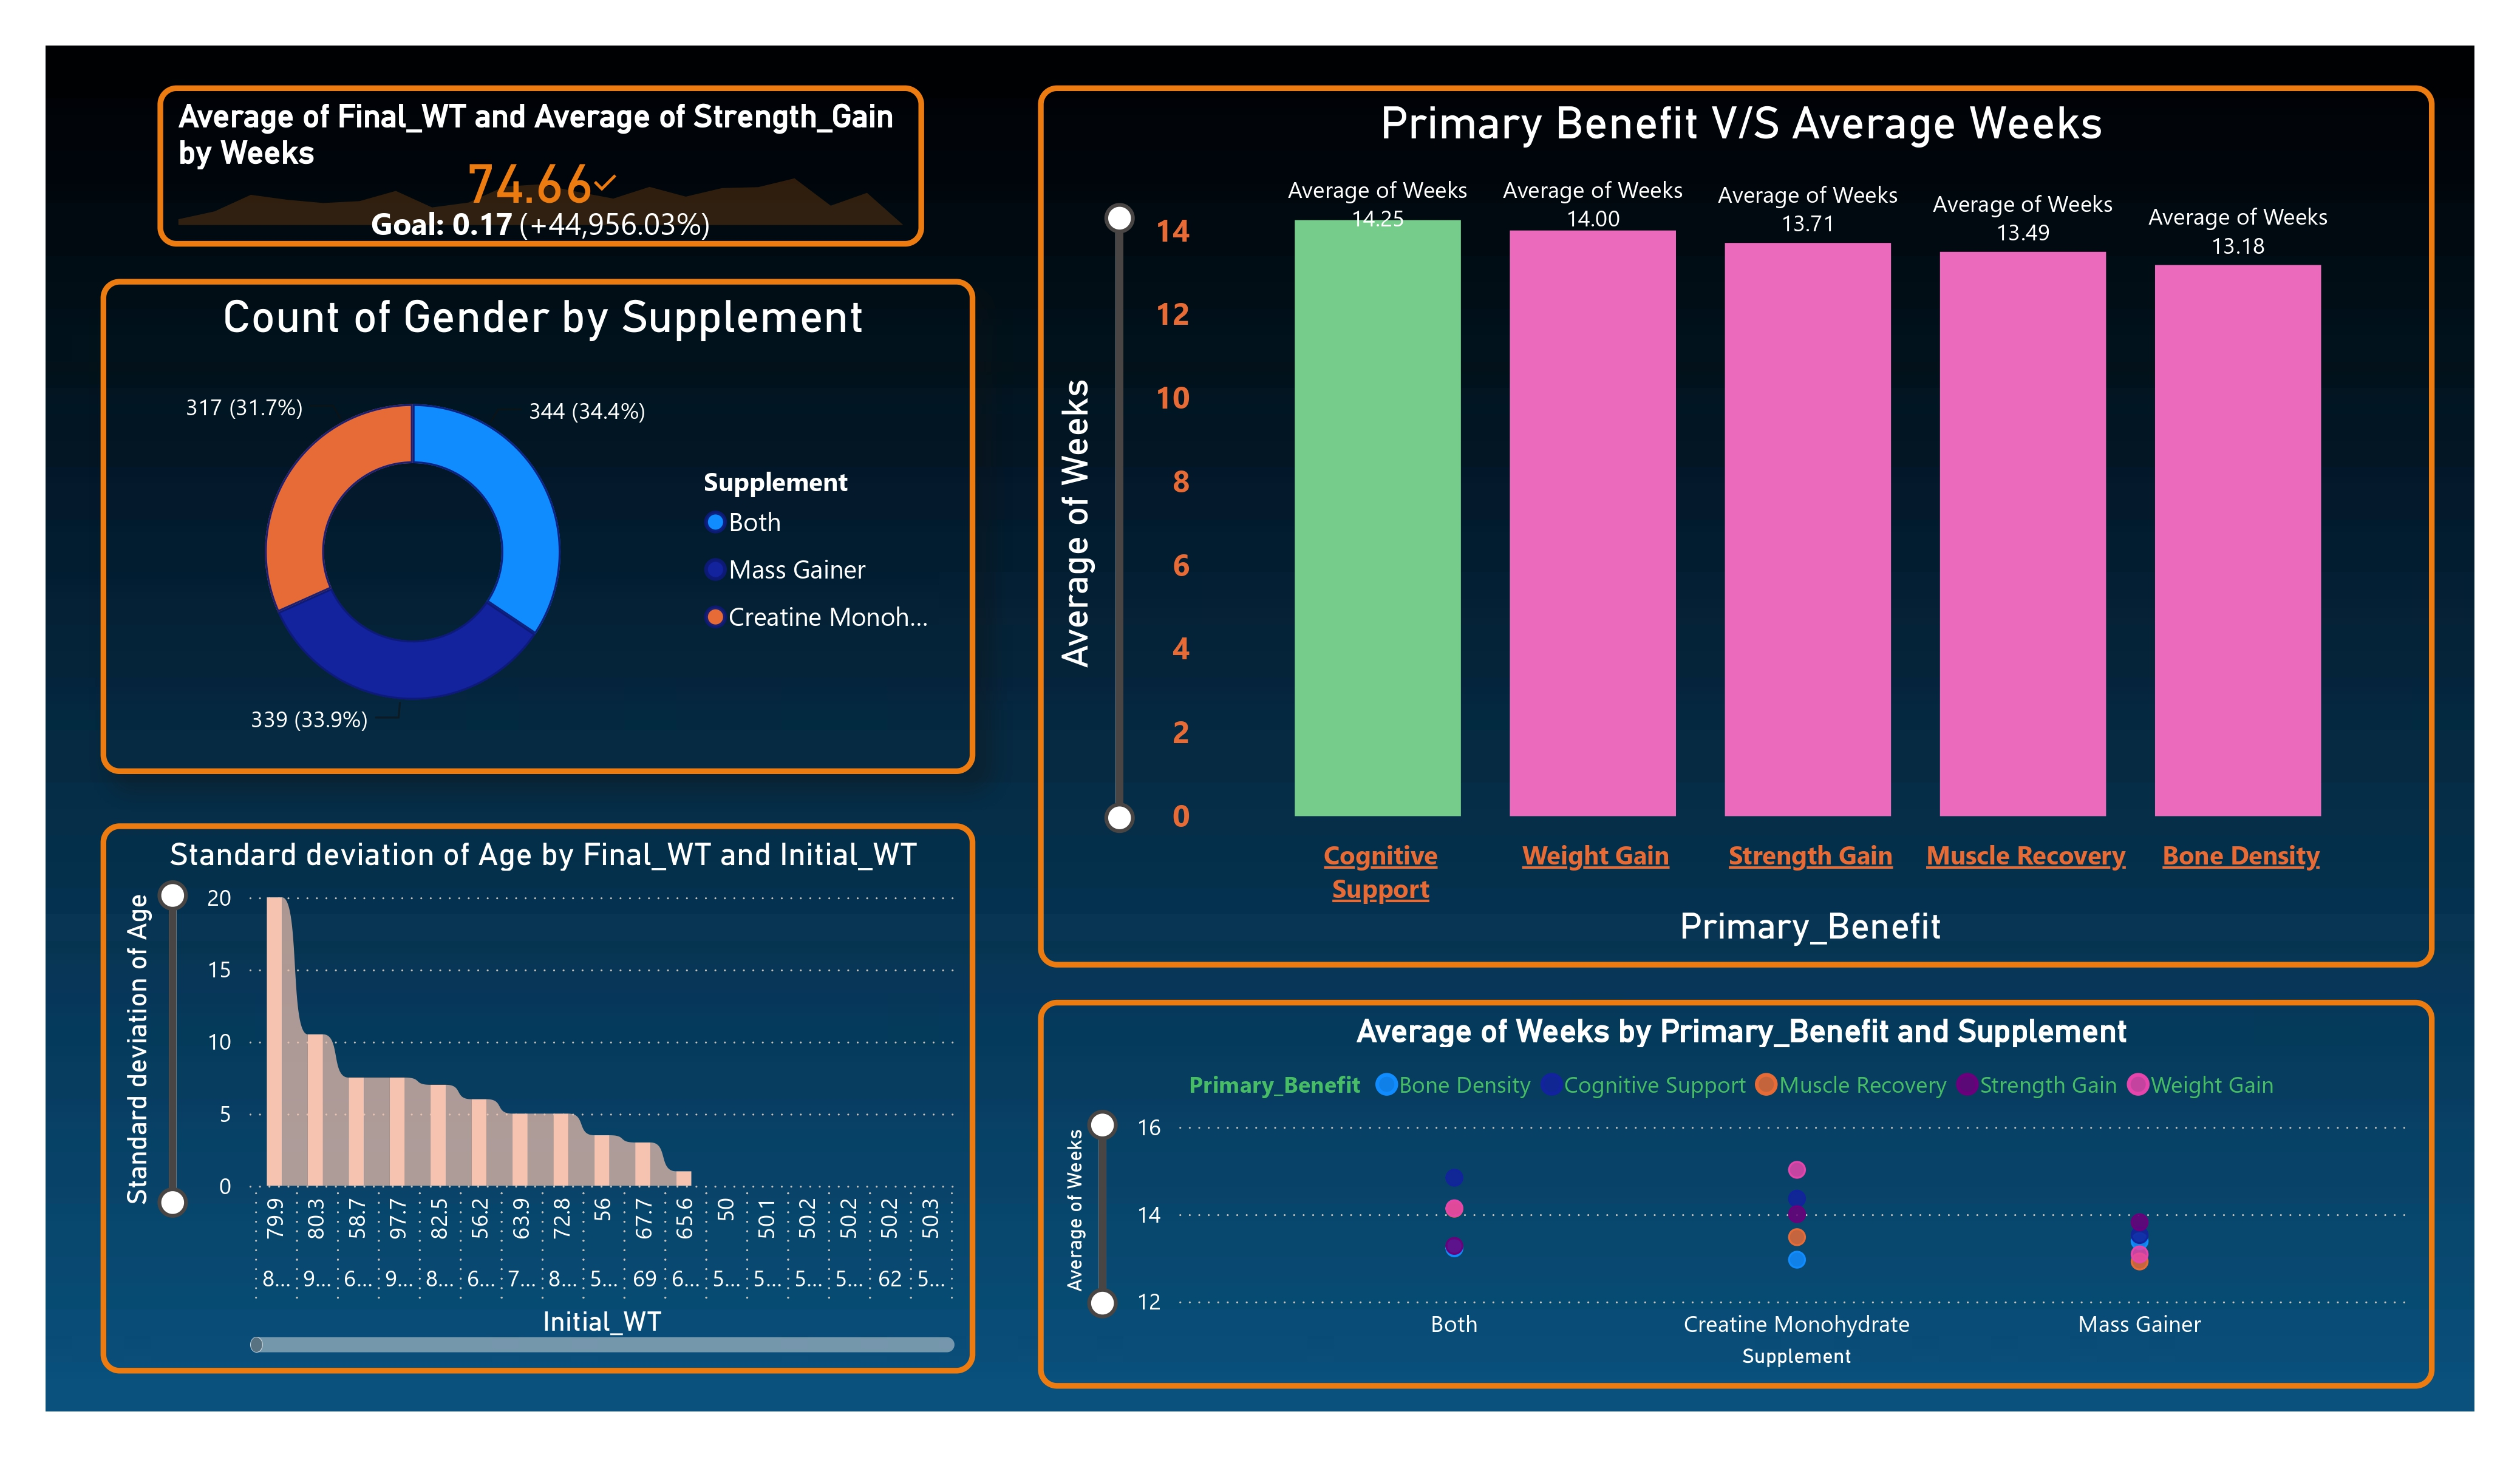

This screenshot's page, from the dashboard's own definition file:
{"tool":"powerbi","page":{"name":"Page 1","canvas":[1280,720],"ordinal":0},"visuals":[{"type":"clusteredColumnChart","title":"Primary Benefit V/S Average Weeks ","fields":{"Category":["supplement_impact_data.Primary_Benefit"],"Y":["Avg(supplement_impact_data.Weeks)"]},"box":[522.5,21.2,736.2,465],"z":1000},{"type":"donutChart","fields":{"Y":["CountNonNull(supplement_impact_data.Gender)"],"Category":["supplement_impact_data.Supplement"]},"box":[28.8,122.5,461.2,261.2],"z":3000},{"type":"ribbonChart","fields":{"Category":["supplement_impact_data.Final_WT","supplement_impact_data.Initial_WT"],"Y":["Sum(supplement_impact_data.Age)"]},"box":[28.8,410,461.2,290],"z":3001},{"type":"kpi","fields":{"TrendLine":["supplement_impact_data.Weeks"],"Indicator":["Avg(supplement_impact_data.Final_WT)"],"Goal":["Avg(supplement_impact_data.Strength_Gain)"]},"box":[58.8,21.2,403.8,85],"z":3002},{"type":"scatterChart","fields":{"X":["supplement_impact_data.Supplement"],"Y":["Avg(supplement_impact_data.Weeks)"],"Series":["supplement_impact_data.Primary_Benefit"]},"box":[522.9,502.9,735.7,205],"z":3003}]}

Visuals, with their boxes in screenshot pixels (x1, y1, x2, y2):
"Primary Benefit V/S Average Weeks " clusteredColumnChart: 1032, 30, 2514, 965
donutChart - CountNonNull(supplement_impact_data.Gender) x supplement_impact_data.Supplement: 38, 233, 967, 759
ribbonChart - supplement_impact_data.Final_WT x supplement_impact_data.Initial_WT: 38, 812, 967, 1396
kpi - supplement_impact_data.Weeks x Avg(supplement_impact_data.Final_WT): 98, 30, 911, 200
scatterChart - supplement_impact_data.Supplement x Avg(supplement_impact_data.Weeks): 1033, 999, 2514, 1411
